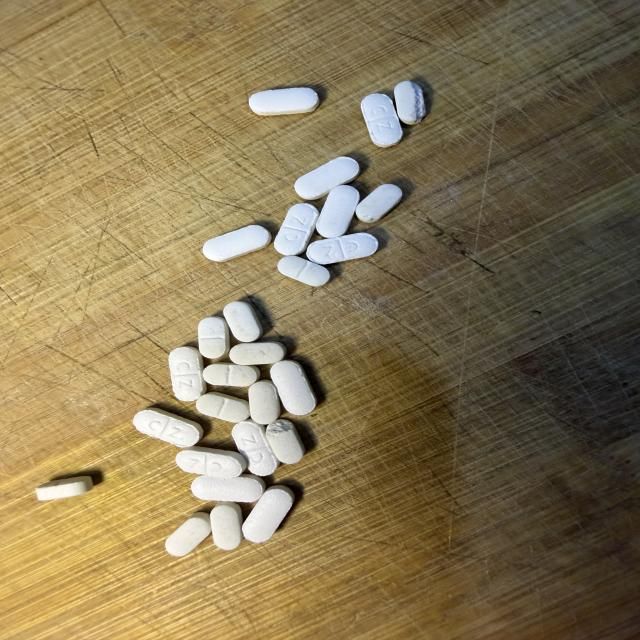pill: (243, 485, 294, 542), (133, 408, 203, 447), (295, 157, 359, 199), (232, 420, 279, 476), (203, 225, 271, 261), (271, 361, 316, 415), (274, 204, 319, 255), (316, 185, 359, 237), (307, 233, 378, 264), (361, 94, 402, 147), (165, 512, 212, 557), (176, 447, 246, 477), (191, 474, 265, 502), (169, 347, 206, 401), (249, 88, 319, 115), (356, 184, 402, 222), (266, 419, 304, 463), (223, 301, 262, 342), (196, 392, 249, 422), (278, 256, 330, 286), (211, 502, 242, 550), (36, 476, 93, 500), (249, 380, 280, 424), (395, 81, 426, 124), (203, 363, 260, 386), (198, 317, 229, 358), (229, 342, 285, 364)
